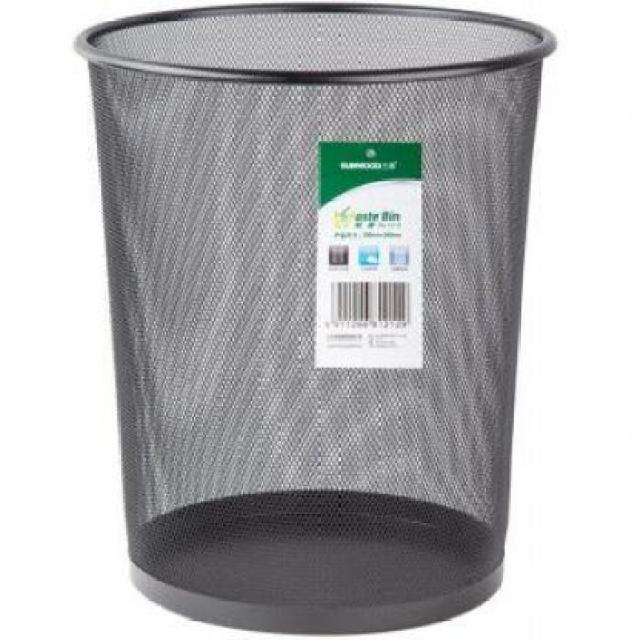dustbin: (68, 0, 563, 640)
